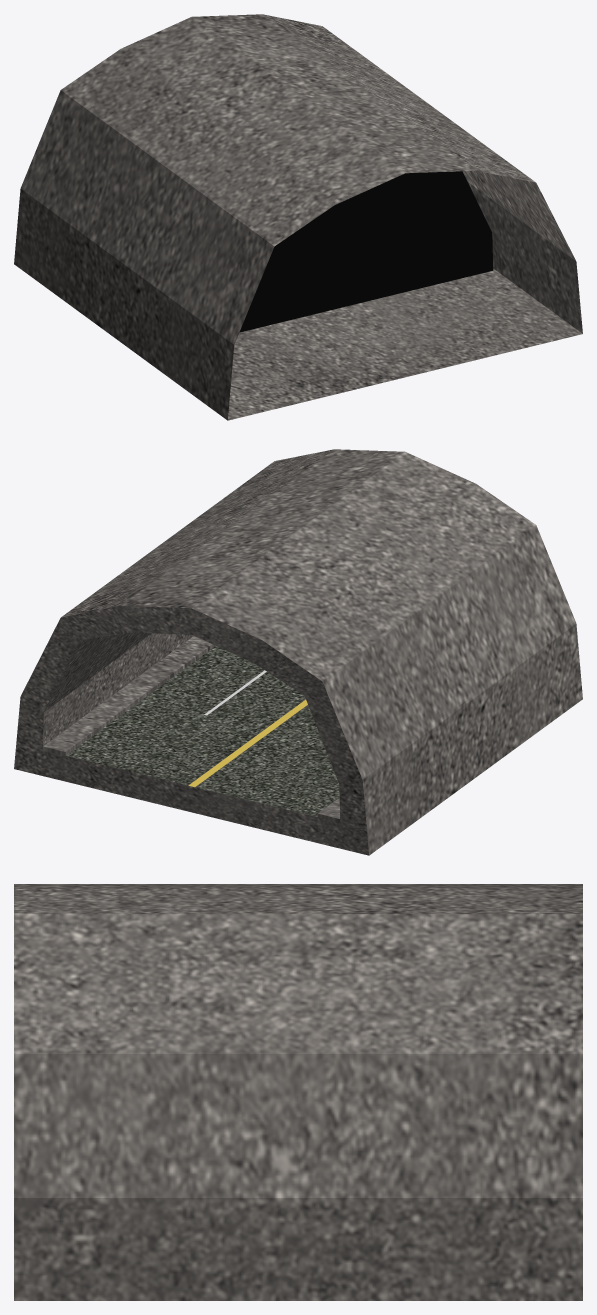
The model's file is Tunnel.fbx.
3 views of the same model, one above another, from view 1: azimuth 30°, elevation 25°; view 2: azimuth 150°, elevation 25°; view 3: azimuth 270°, elevation 25° (orthographic). The views are drawn at different scales.
Visible parts, largest first — view 1: Cylinder; view 2: Cylinder; view 3: Cylinder.
Part boxes in pixels (x1=…): Cylinder: x1=14, y1=14, x2=582, y2=420; Cylinder: x1=14, y1=449, x2=582, y2=855; Cylinder: x1=14, y1=884, x2=582, y2=1300.
Size of the model in its own units: 1899 by 1043 by 1980.
5 materials, 2 textured.
